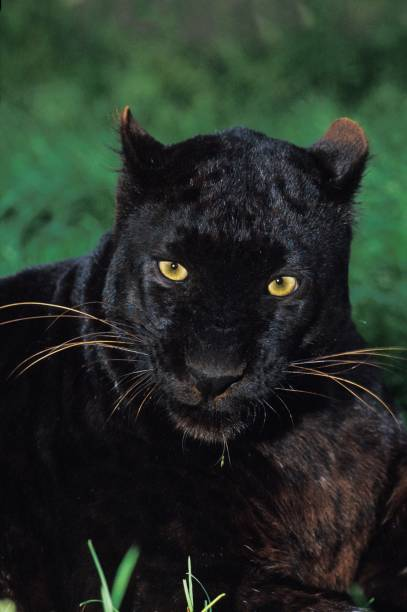panther: (72, 92, 386, 457)
